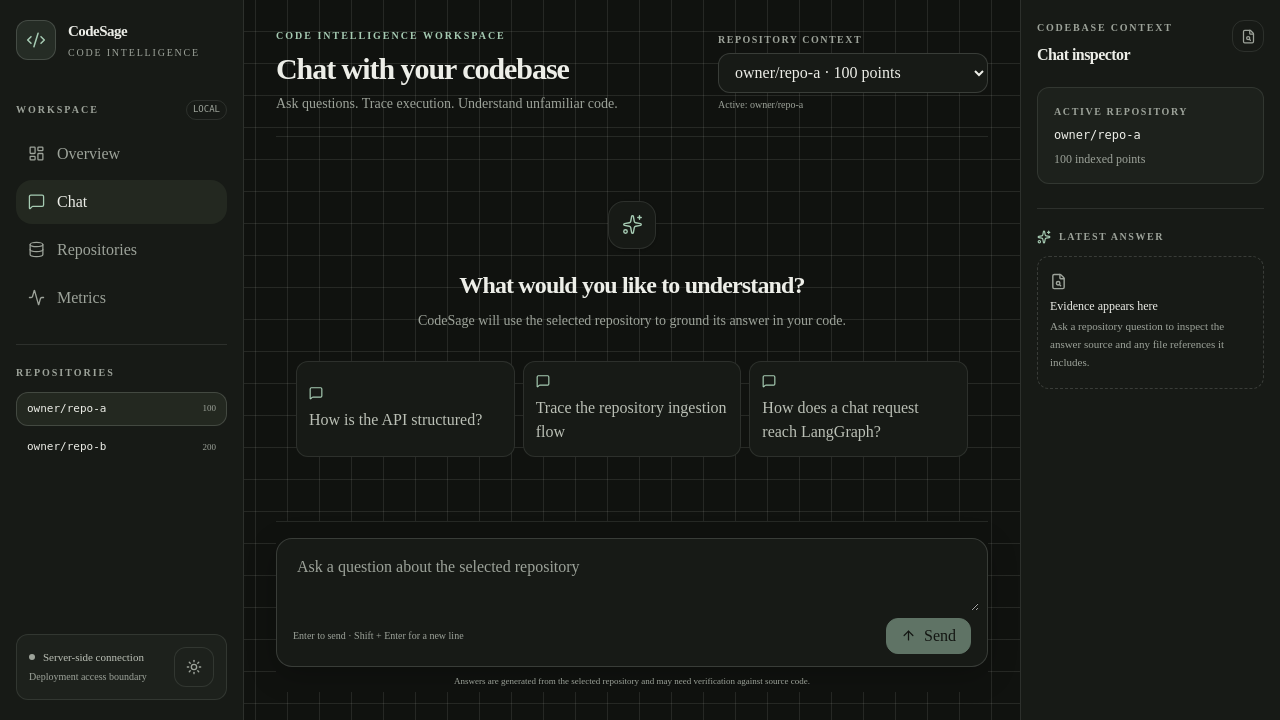
it: ChatPage › Successful question submission › renders the assistant answer
The image size is (1280, 720).
Type "Hello" into the text box with placeholder "Ask a question about the selected repository" at coordinates (632, 578), box [285, 546, 979, 610]
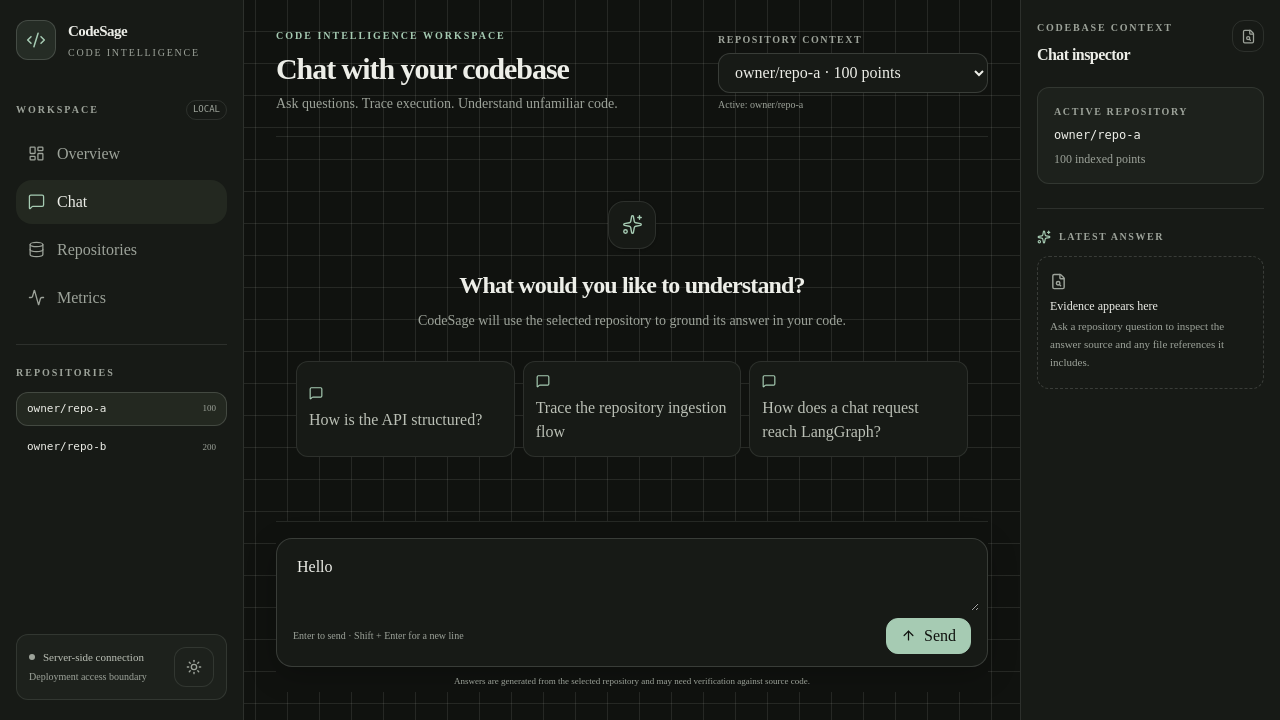
Click the button with aria-label "submit" at coordinates (928, 636), box [886, 618, 971, 654]
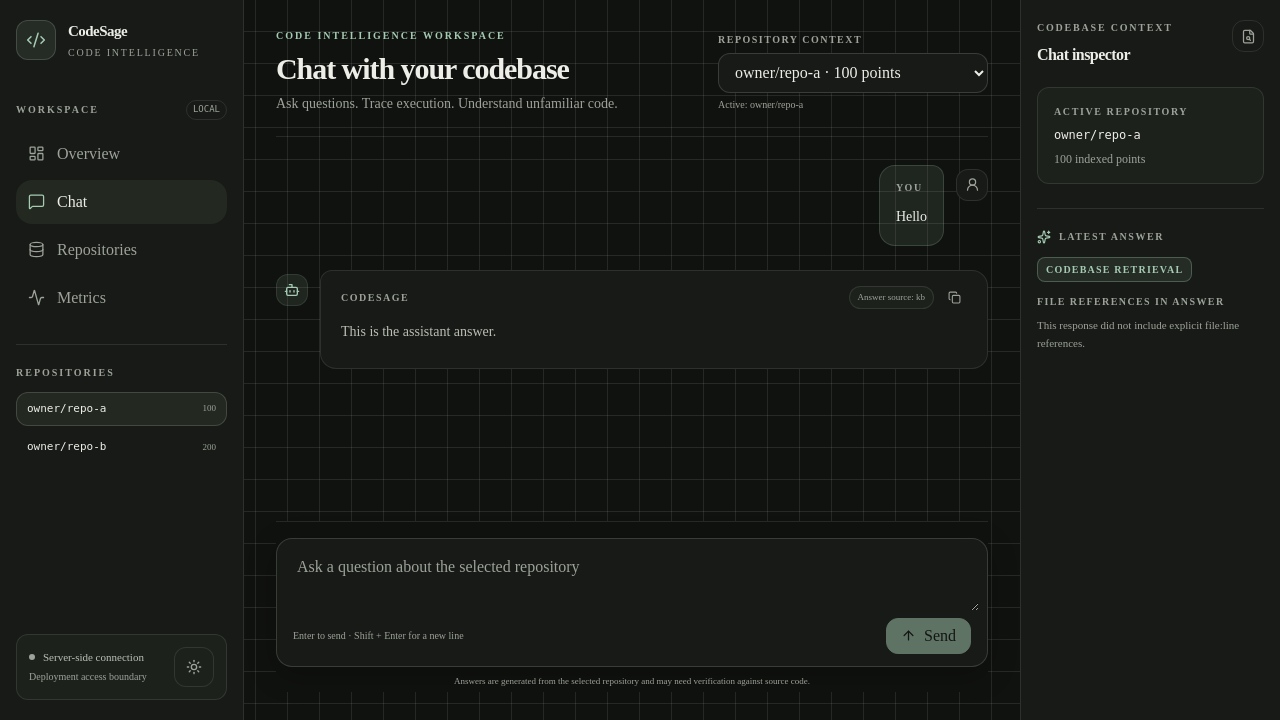
expect the text "This is the assistant answer." is shown: met, box [341, 324, 496, 339]
